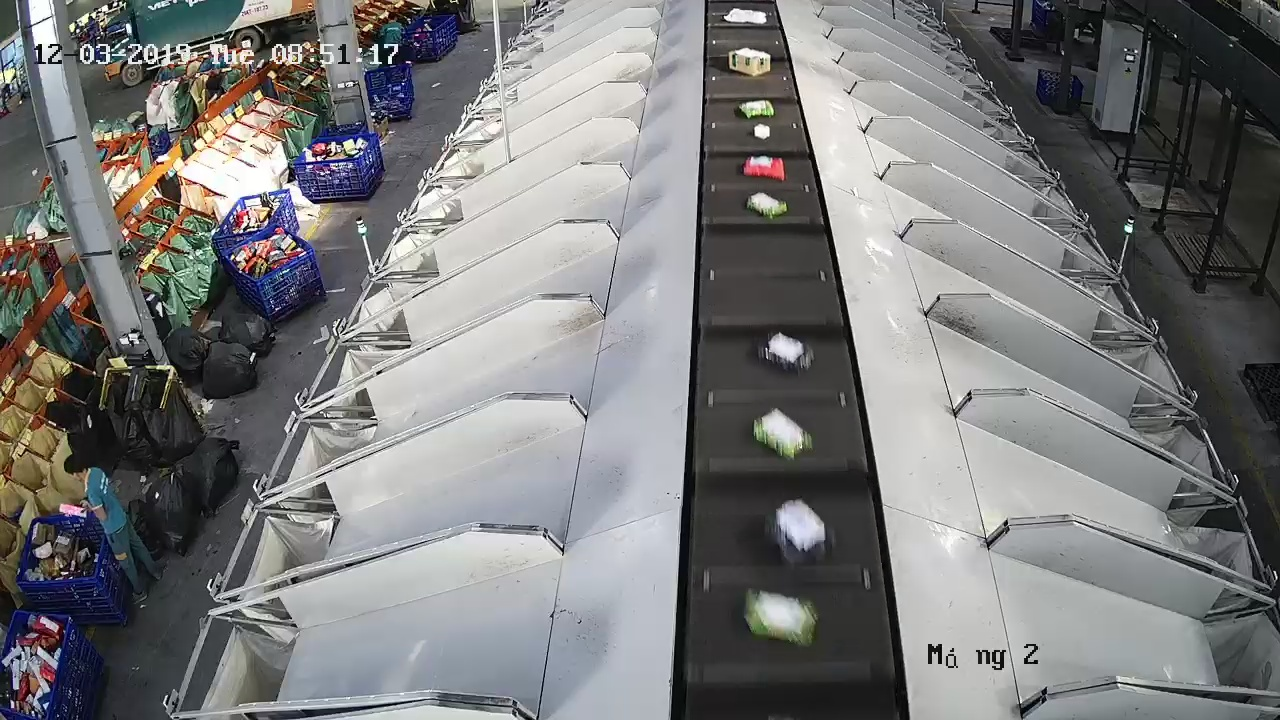parcel: (762, 497, 837, 569), (744, 587, 820, 649), (751, 405, 814, 463), (753, 328, 817, 377), (728, 46, 772, 78), (741, 153, 787, 182), (745, 190, 789, 220), (737, 97, 776, 119), (753, 122, 772, 142)
